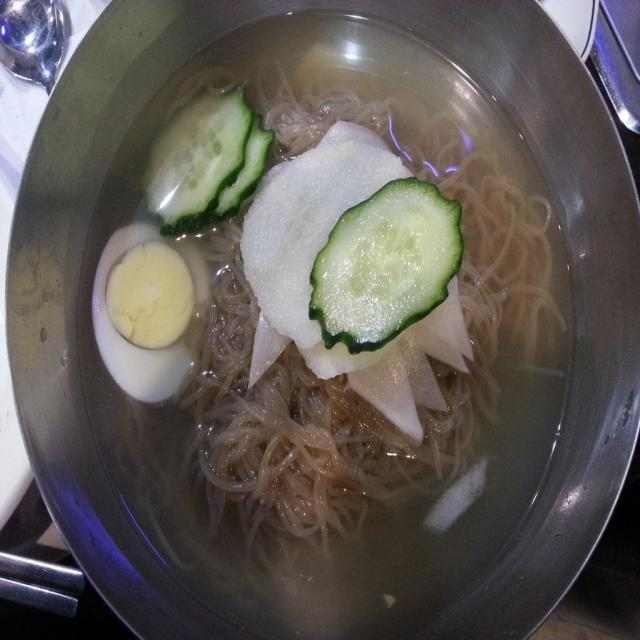Cucumber: (306, 164, 460, 352), (137, 82, 257, 220), (183, 113, 277, 225)
